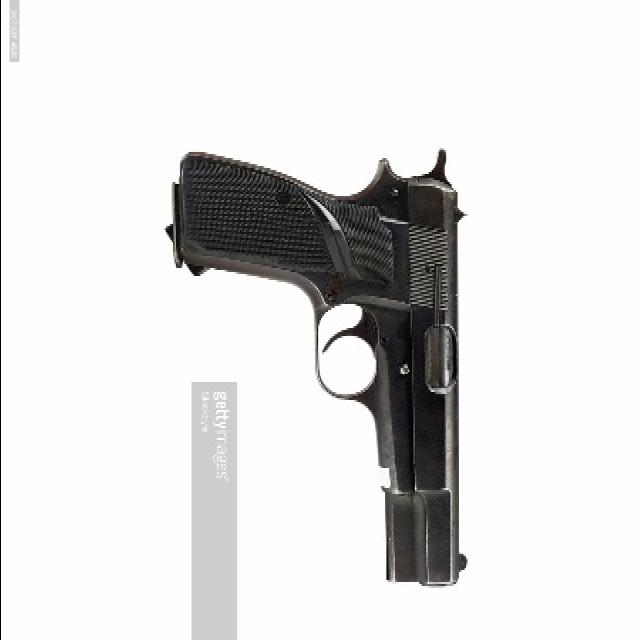handgun: (167, 147, 475, 589)
